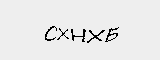Б: (104, 24, 120, 43)
Н: (69, 24, 86, 45)
С: (44, 23, 58, 44)
Х: (86, 26, 105, 44), (54, 24, 72, 41)
